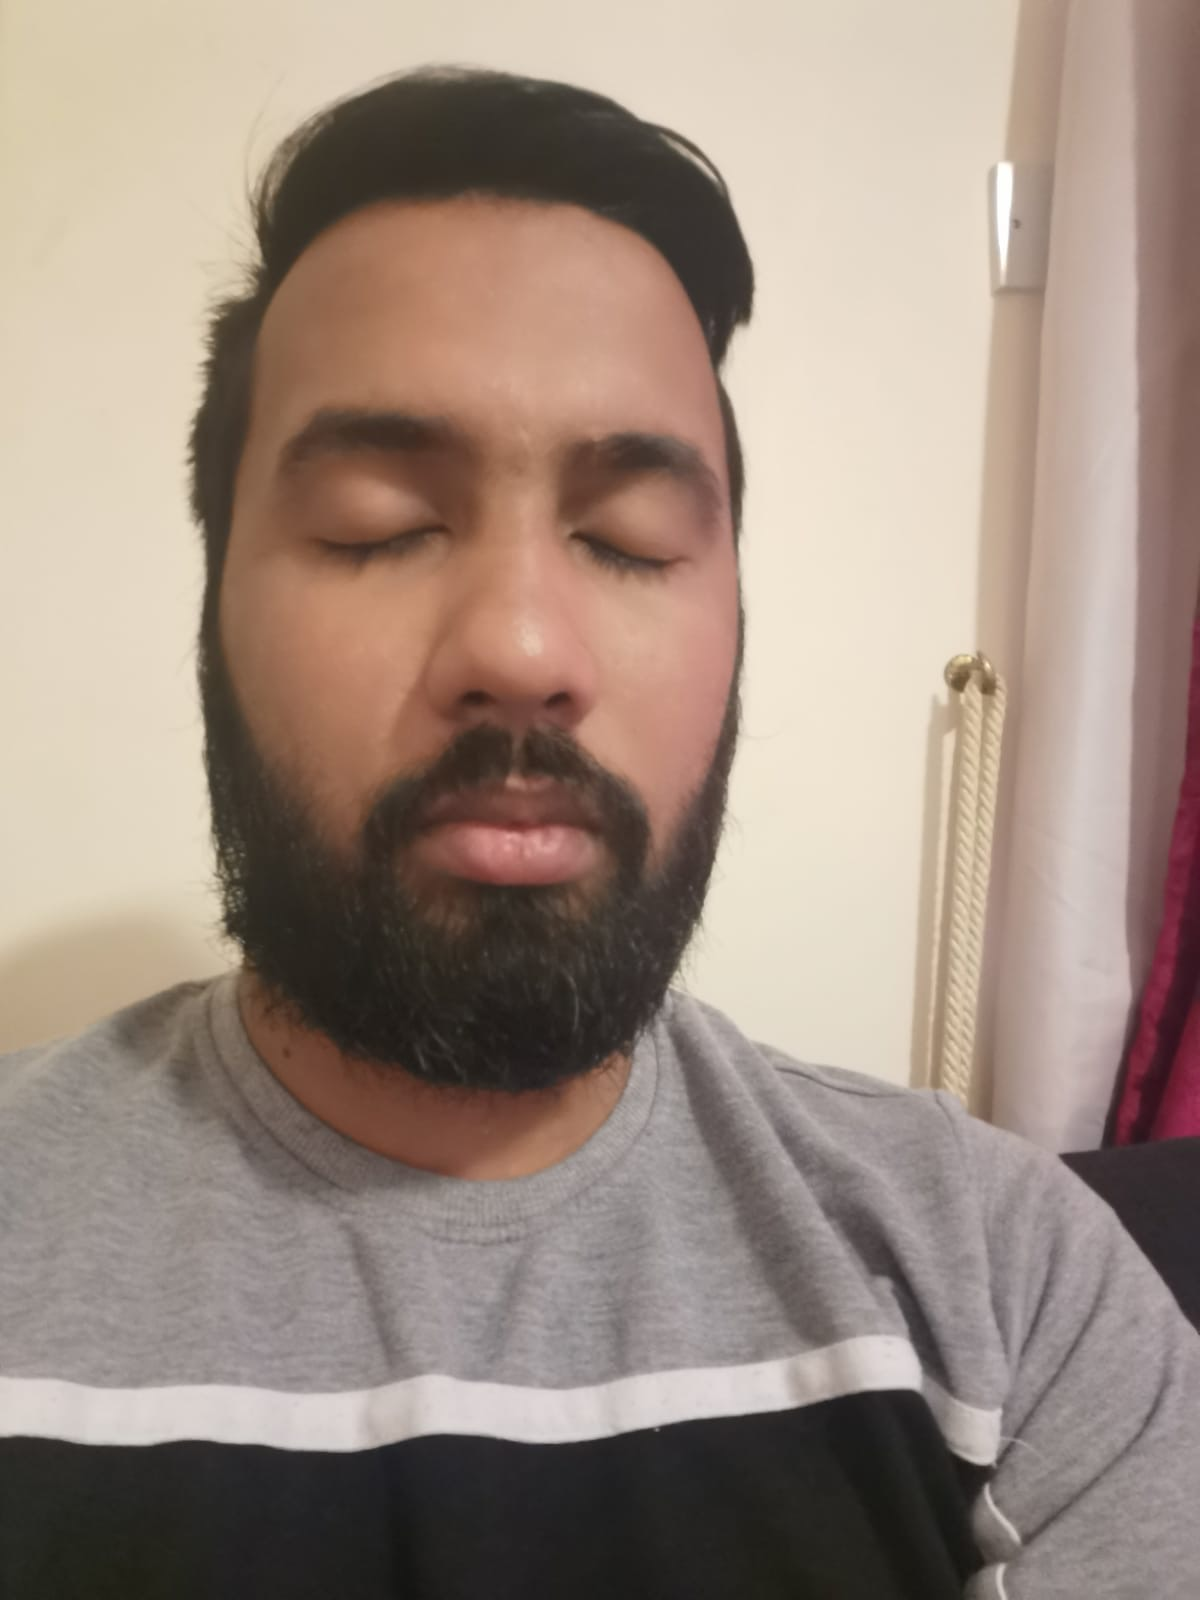Sleeping: (263, 472, 736, 598)
